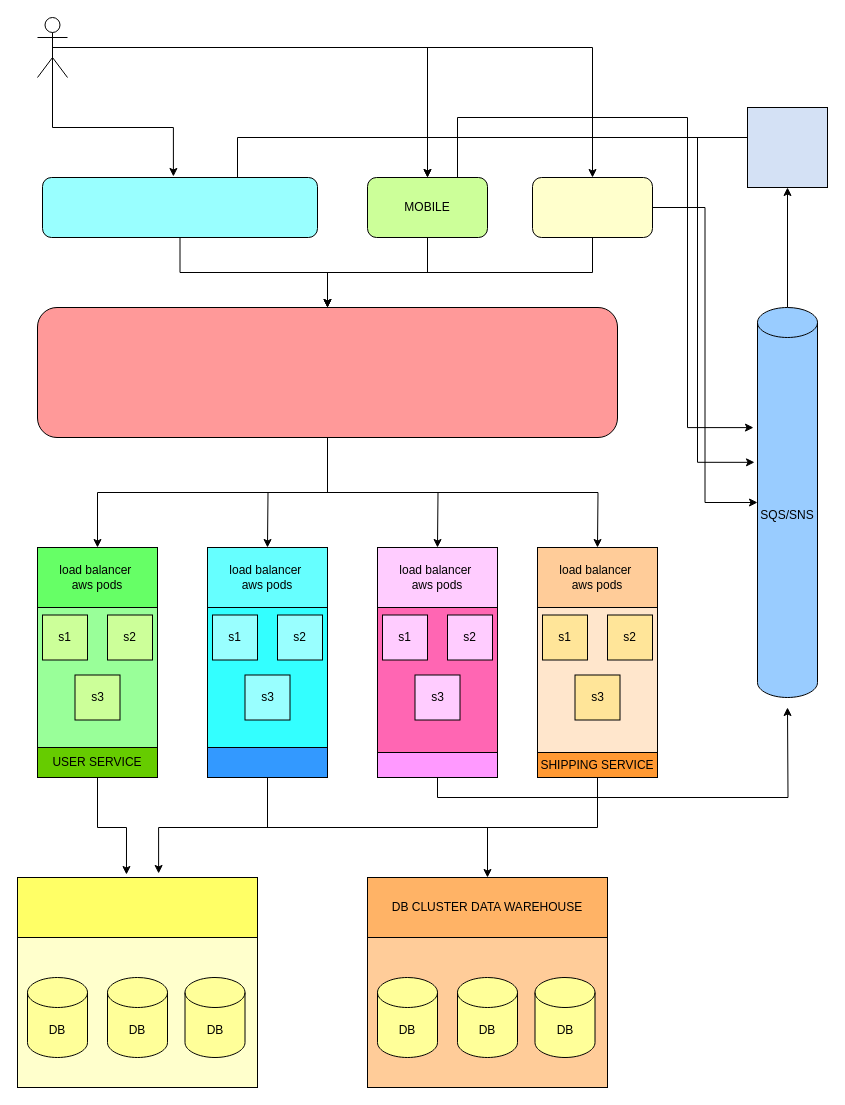
The diagram is 845 pixels wide and 1105 high, and some of its shapes have lost their labels. The centre of each missing label's shape, as x and y in pixels:
"DB CLUSTER MAIN APP" goes at (x=137, y=907).
"GQL Server/Federation or Dispatcher" goes at (x=327, y=372).
"NOTIFICATION" goes at (x=437, y=765).
"POS" goes at (x=592, y=207).
"PRODUCT SERVICE" goes at (x=267, y=762).
"PUSH" goes at (x=787, y=147).
"user" goes at (x=52, y=47).
"WEB APP" goes at (x=180, y=207).
